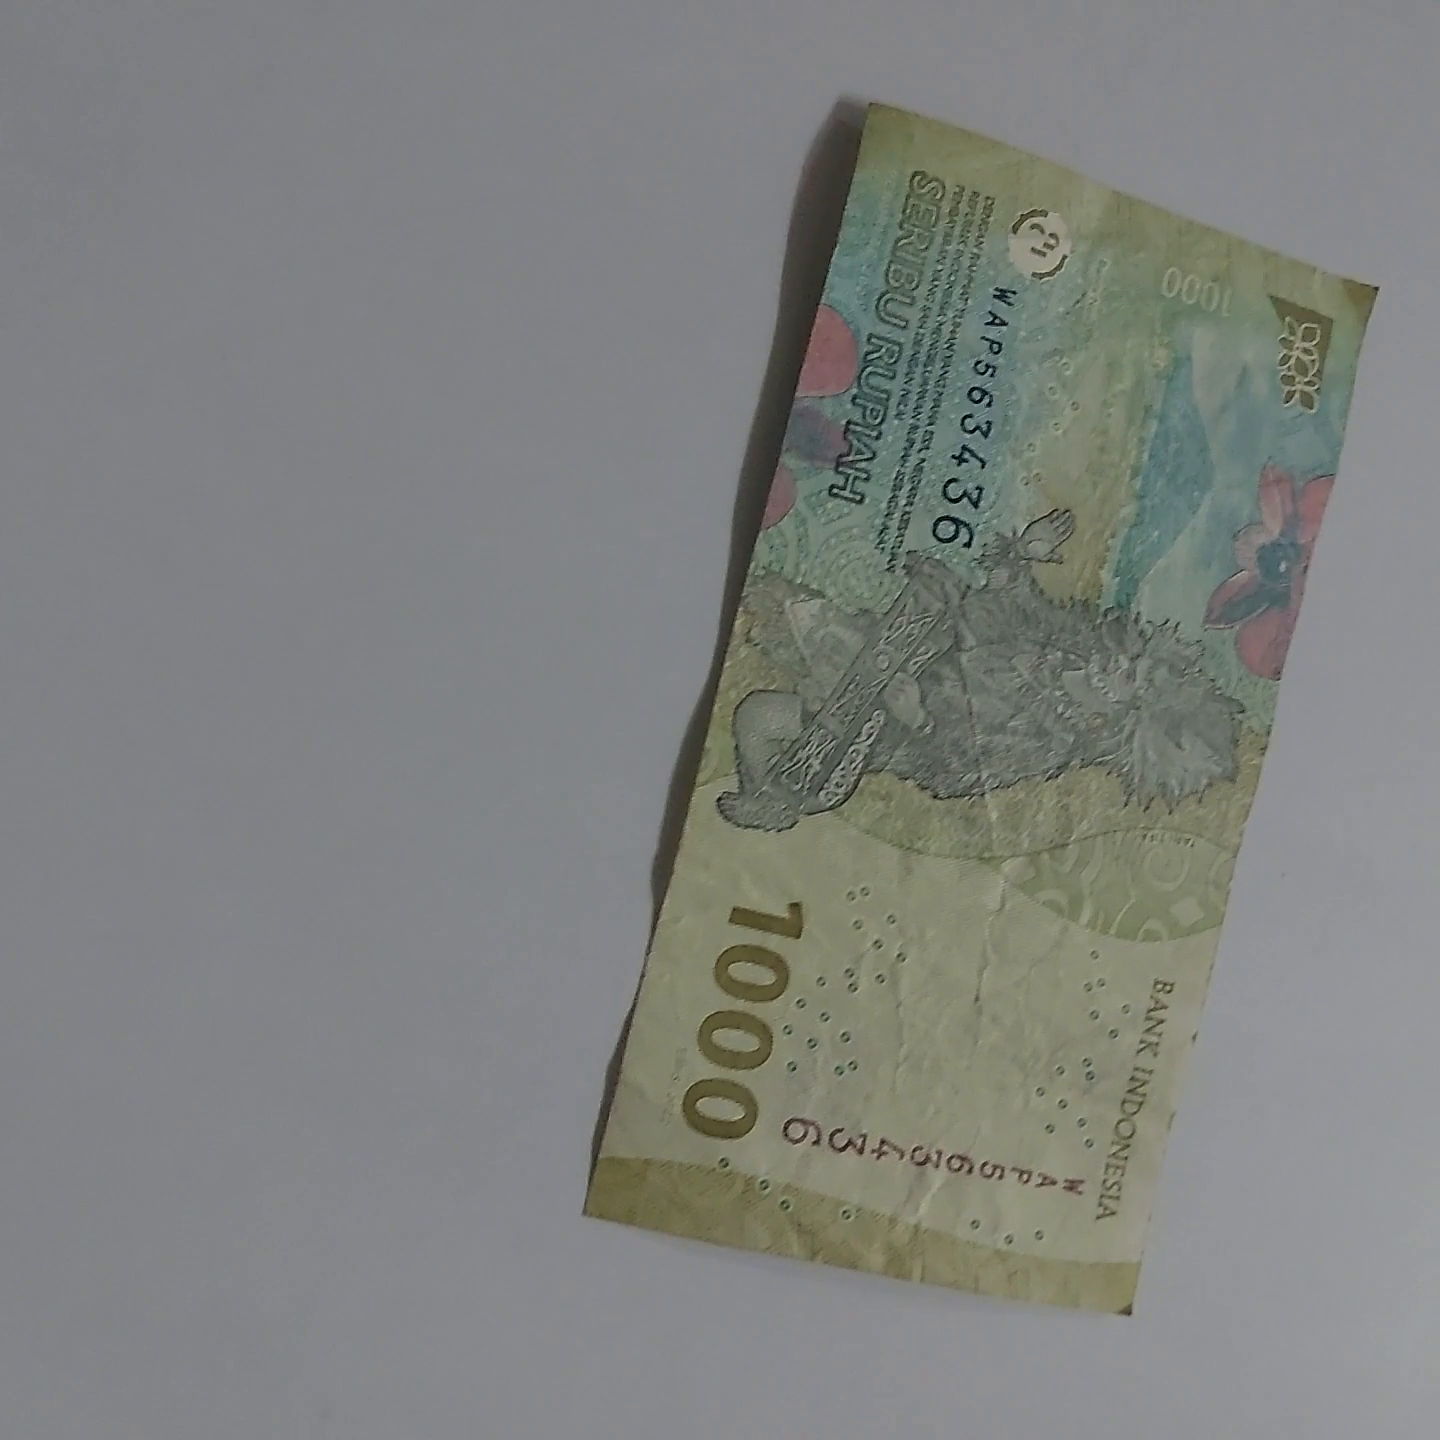1k: (832, 50, 1440, 1311)
